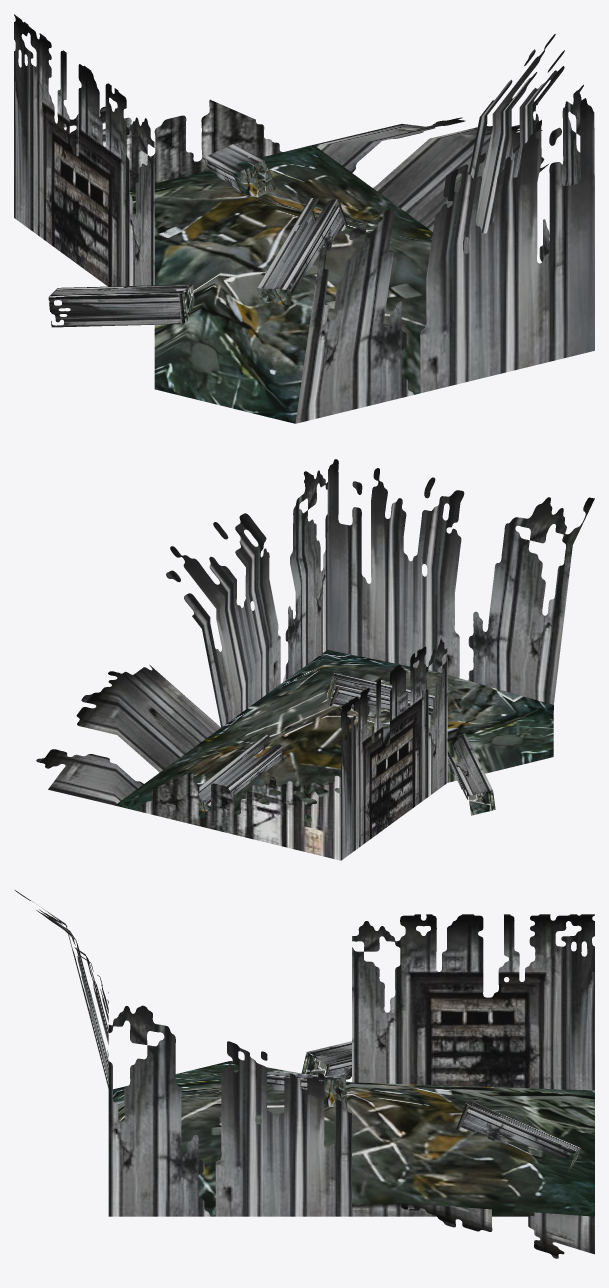
The model's file is factorymd_dam_hdtex.glb.
The picture shows the model from 3 angles, top to bottom: view 1: azimuth 30°, elevation 25°; view 2: azimuth 150°, elevation 25°; view 3: azimuth 270°, elevation 25°; orthographic projection. The views are drawn at different scales.
Parts seen in each view (by area): view 1: Object01; view 2: Object01; view 3: Object01.
Boxes of the visible parts, bbox=[...] form: Object01: bbox=[14, 14, 594, 423]; Object01: bbox=[36, 459, 594, 860]; Object01: bbox=[15, 890, 594, 1258].
Bounding box in the file's own units: 26.69 × 13.19 × 30.12.
Materials: 2 (2 with a texture image).
